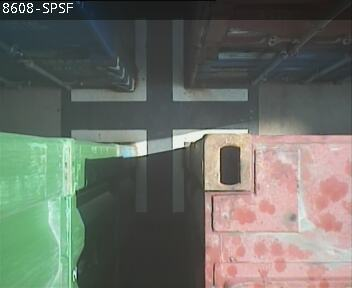groundmarker_1: (70, 20, 250, 102), (69, 128, 249, 210)
